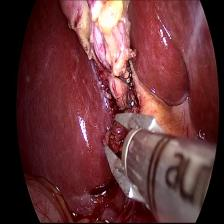Clipper: (103, 104, 181, 217)
